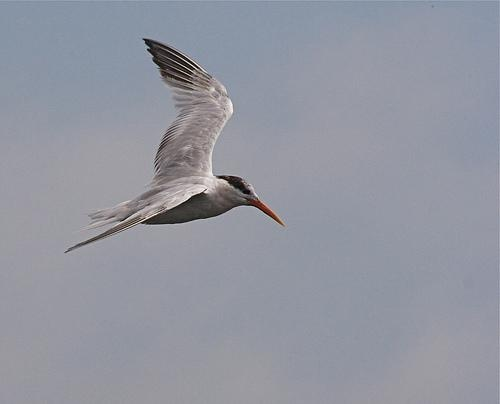bird: (50, 36, 285, 258)
